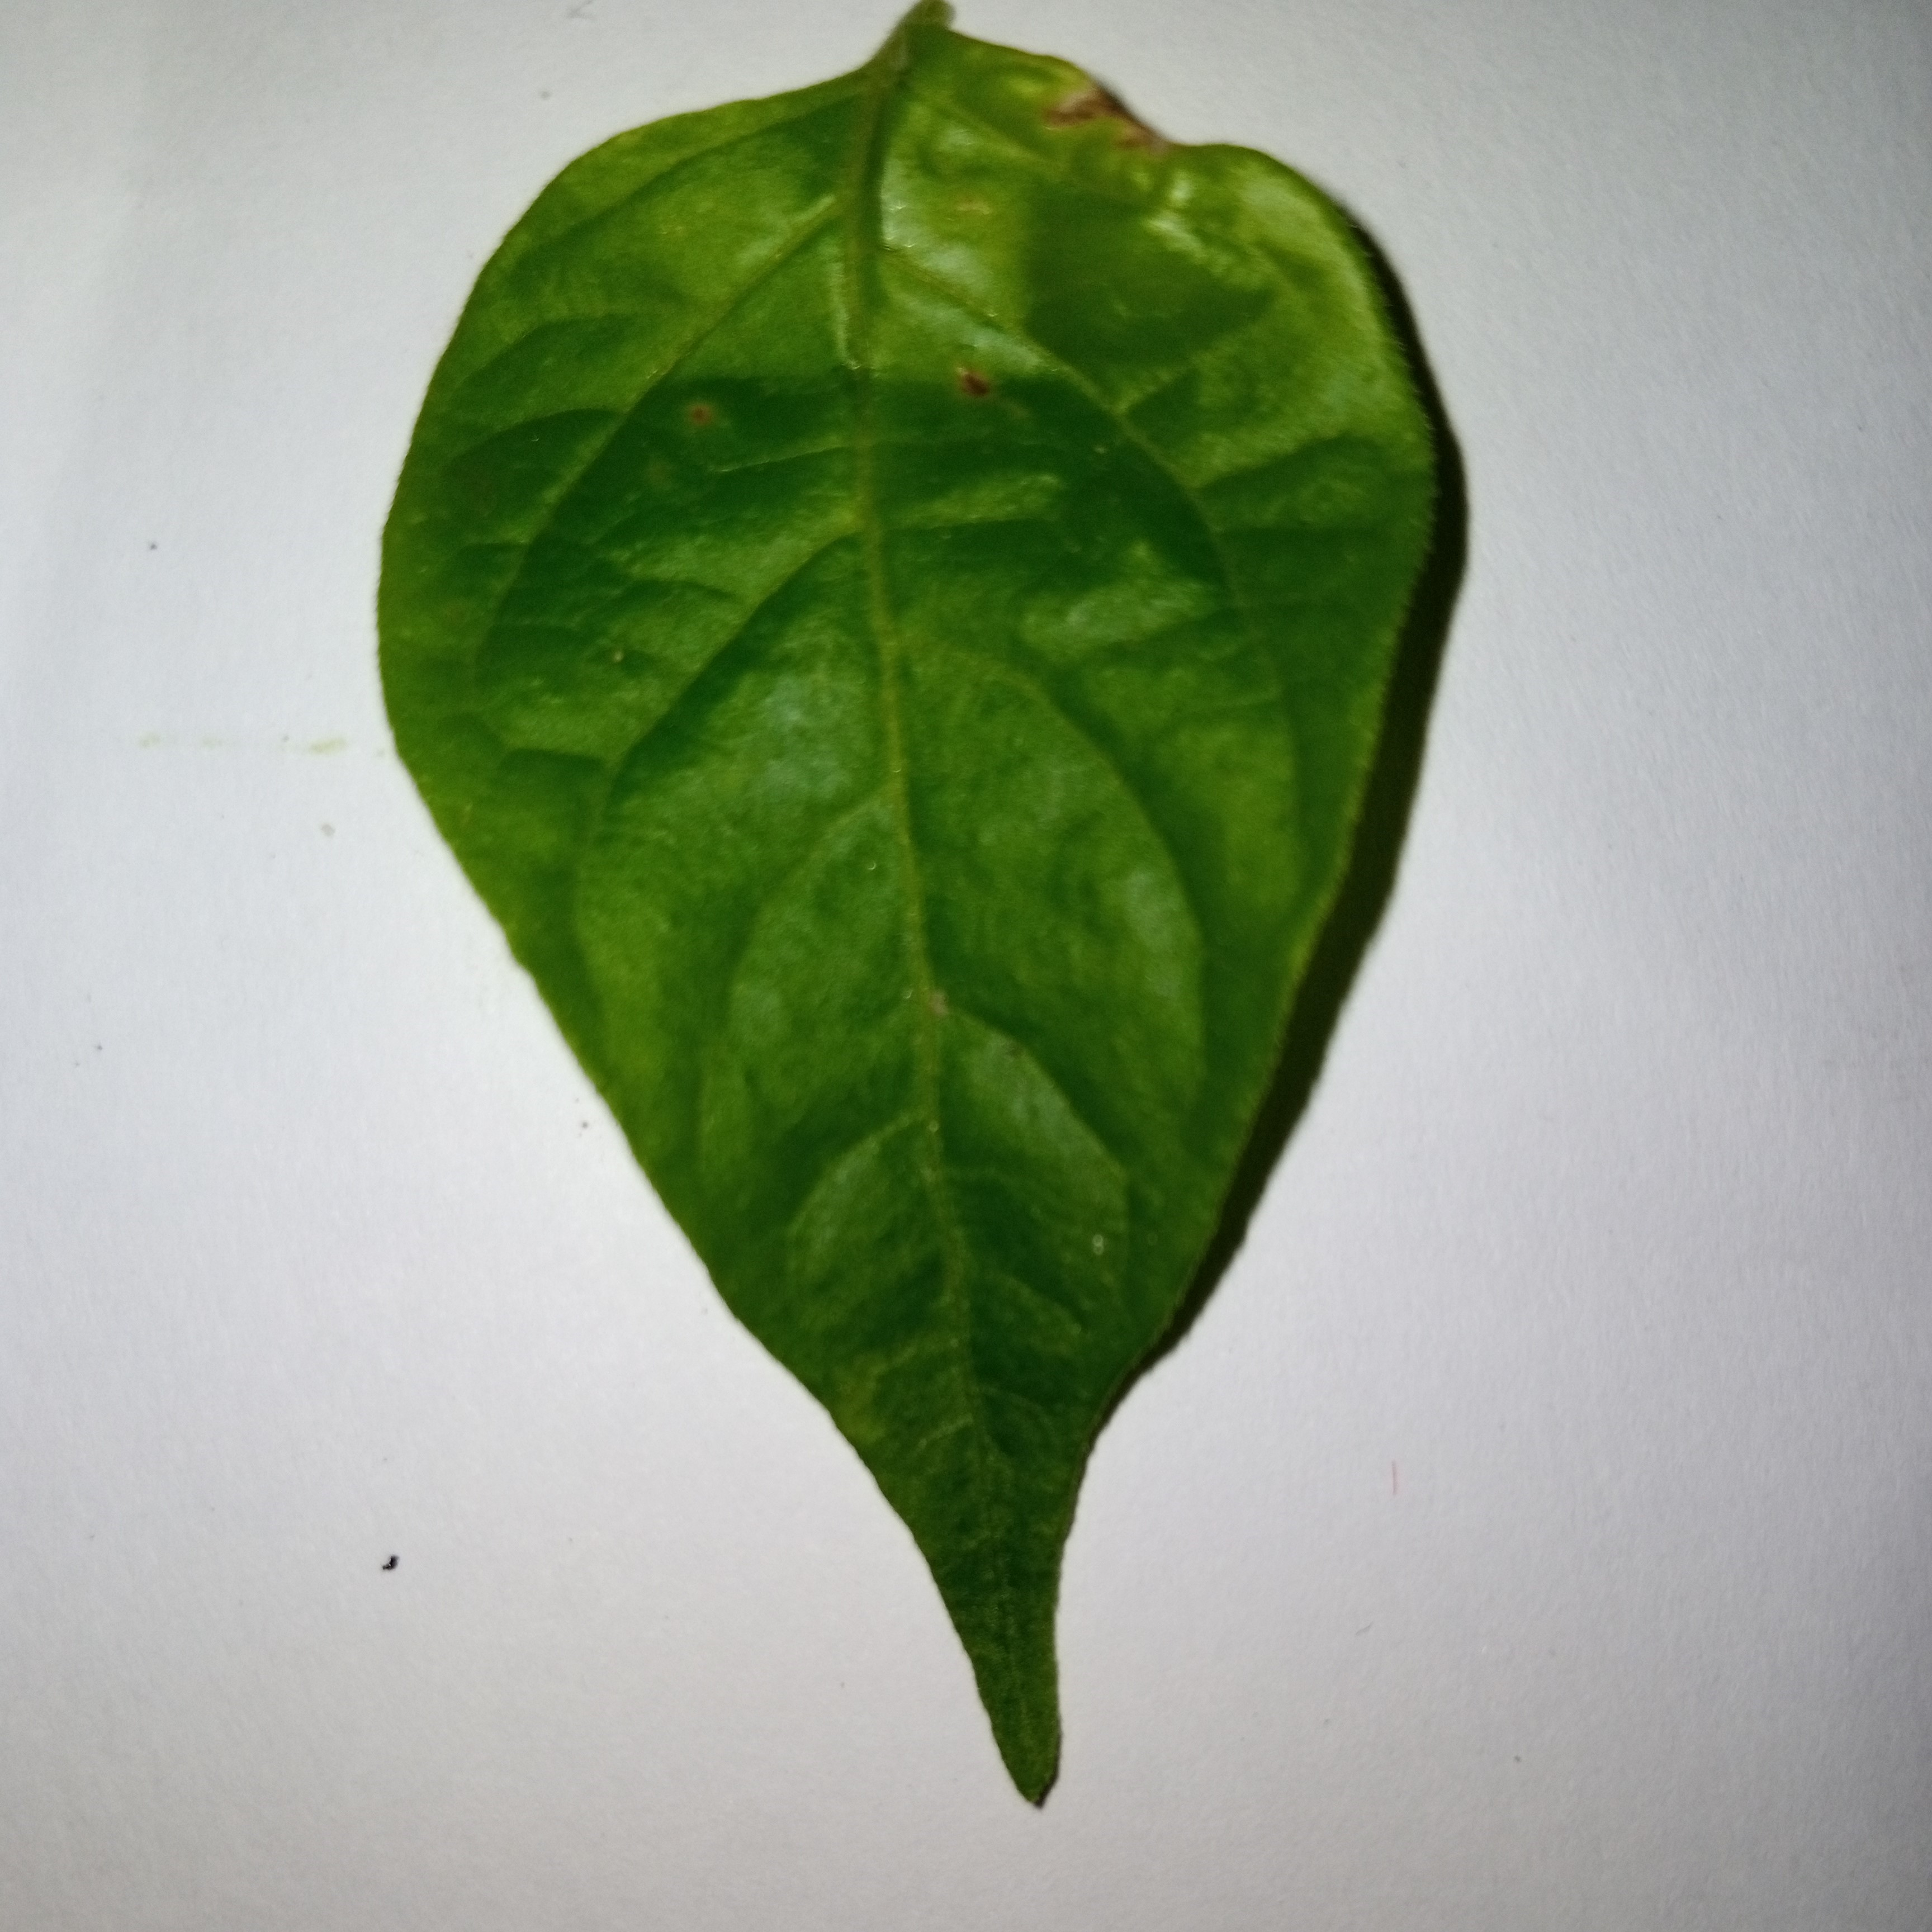Leaf: (239, 12, 1548, 1911)
